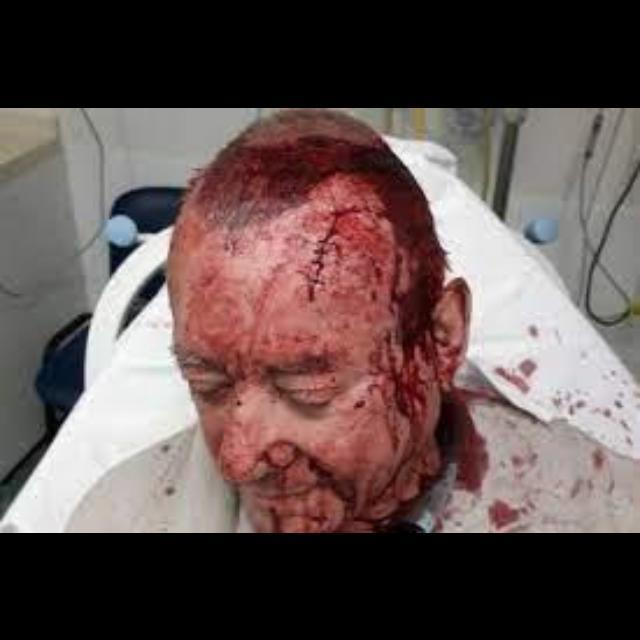blood: (168, 109, 470, 533), (442, 358, 540, 493), (489, 500, 524, 531), (554, 393, 589, 417), (605, 407, 614, 419), (531, 326, 540, 337)
